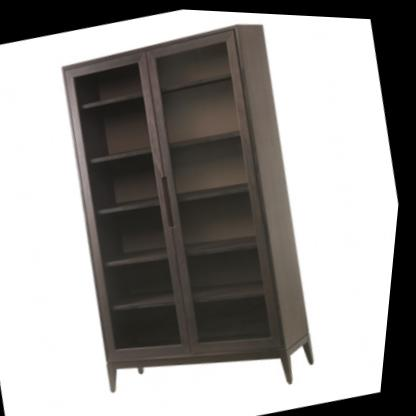Cabinet: (26, 3, 355, 416)
